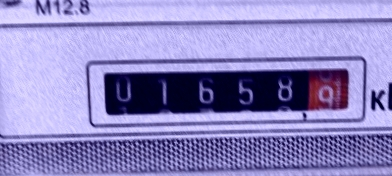0: (111, 71, 133, 103)
1: (155, 74, 169, 106)
5: (235, 74, 255, 106)
6: (195, 73, 216, 105)
8: (274, 71, 294, 103)
9: (314, 82, 333, 109)
screen: (78, 46, 370, 131)
